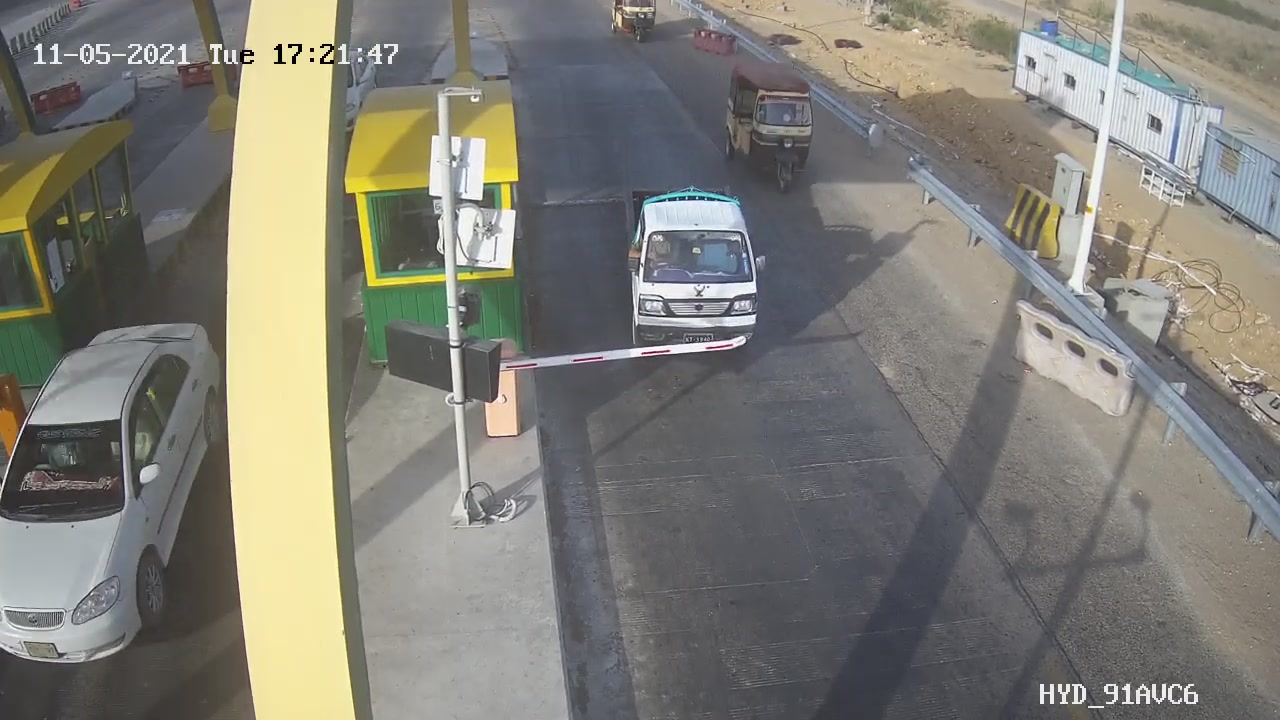F1: (604, 168, 781, 369)
